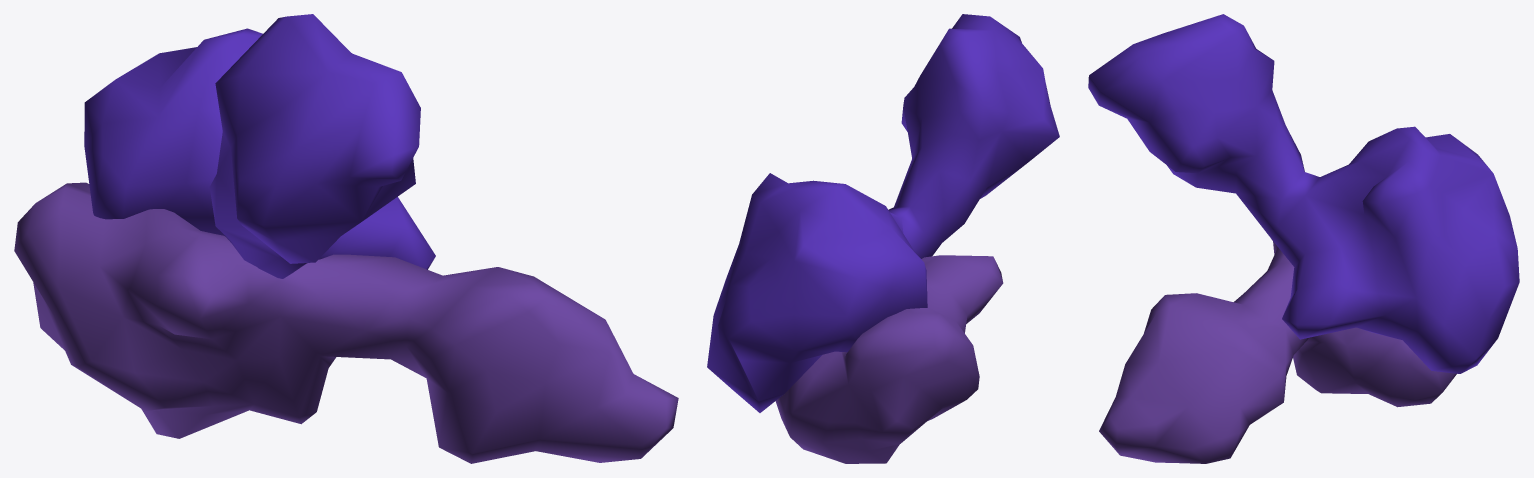
The model's file is HIV1_IN_1ex4_0_1_1.dae.
3 views of the same model, side by side, from view 1: azimuth 30°, elevation 25°; view 2: azimuth 150°, elevation 25°; view 3: azimuth 270°, elevation 25° (orthographic). The views are drawn at different scales.
Parts seen in each view (by area): view 1: _1ex4BCMS, _1ex4ACMS; view 2: _1ex4ACMS, _1ex4BCMS; view 3: _1ex4ACMS, _1ex4BCMS.
Part boxes in pixels (bbox=[...]): _1ex4BCMS: bbox=[14, 182, 678, 463]; _1ex4ACMS: bbox=[84, 14, 435, 278]; _1ex4ACMS: bbox=[707, 14, 1059, 412]; _1ex4BCMS: bbox=[775, 255, 1003, 463]; _1ex4ACMS: bbox=[1088, 14, 1519, 373]; _1ex4BCMS: bbox=[1099, 239, 1456, 463].
Bounding box in the file's own units: 0.7109 × 0.7628 × 0.799.
